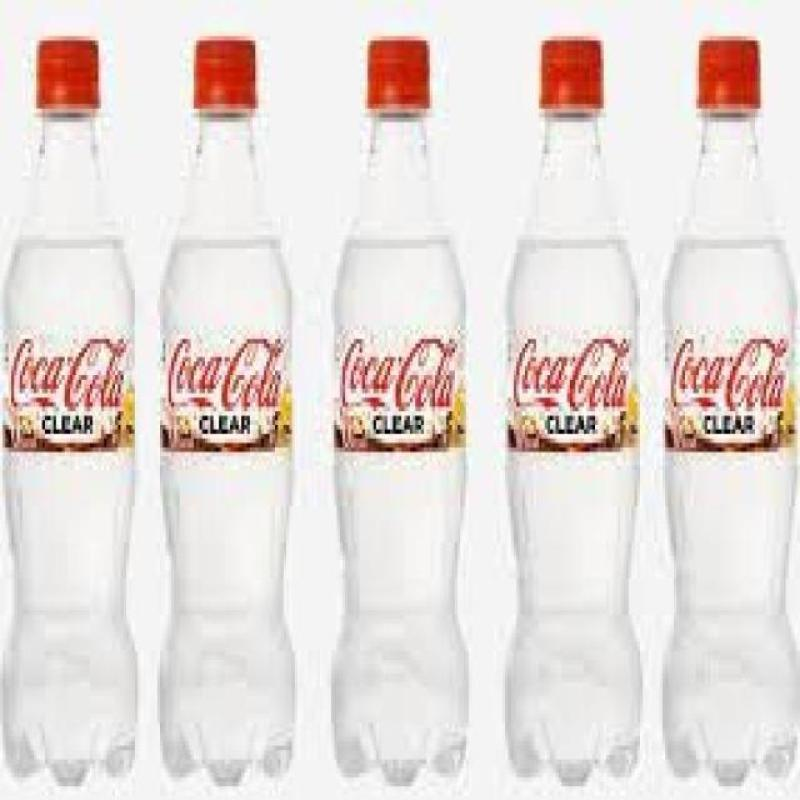botella: (157, 36, 295, 786), (502, 39, 640, 789), (330, 36, 468, 786), (0, 39, 138, 789), (662, 38, 800, 784)
